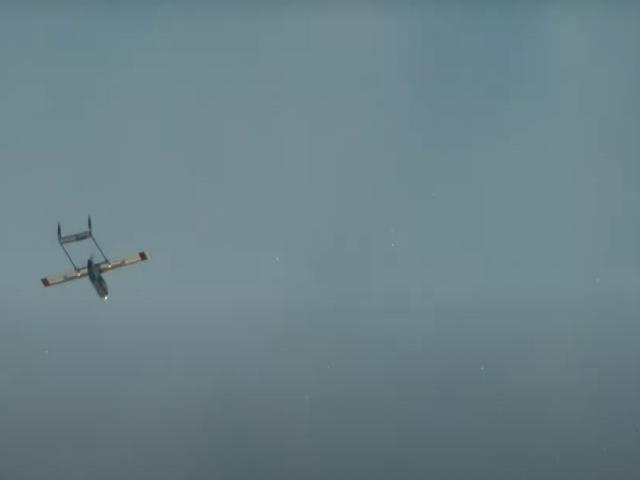iha: (38, 213, 157, 302)
